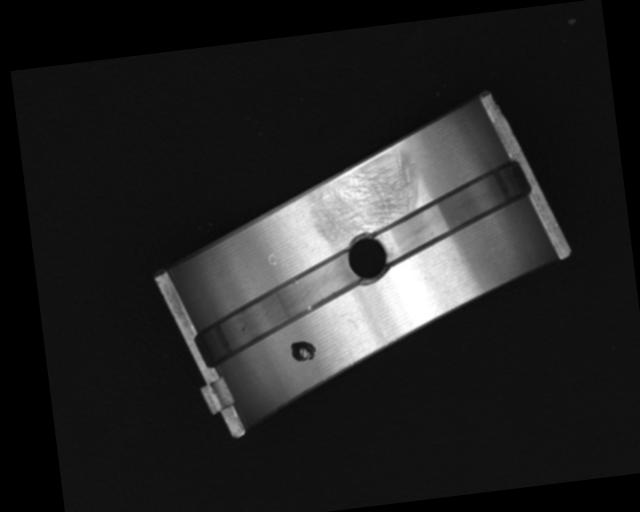blot: (288, 337, 319, 366)
bruise: (267, 251, 278, 268)
gap: (191, 249, 367, 363), (369, 161, 535, 261)
hole: (343, 231, 392, 286)
scratch: (307, 146, 426, 245)
